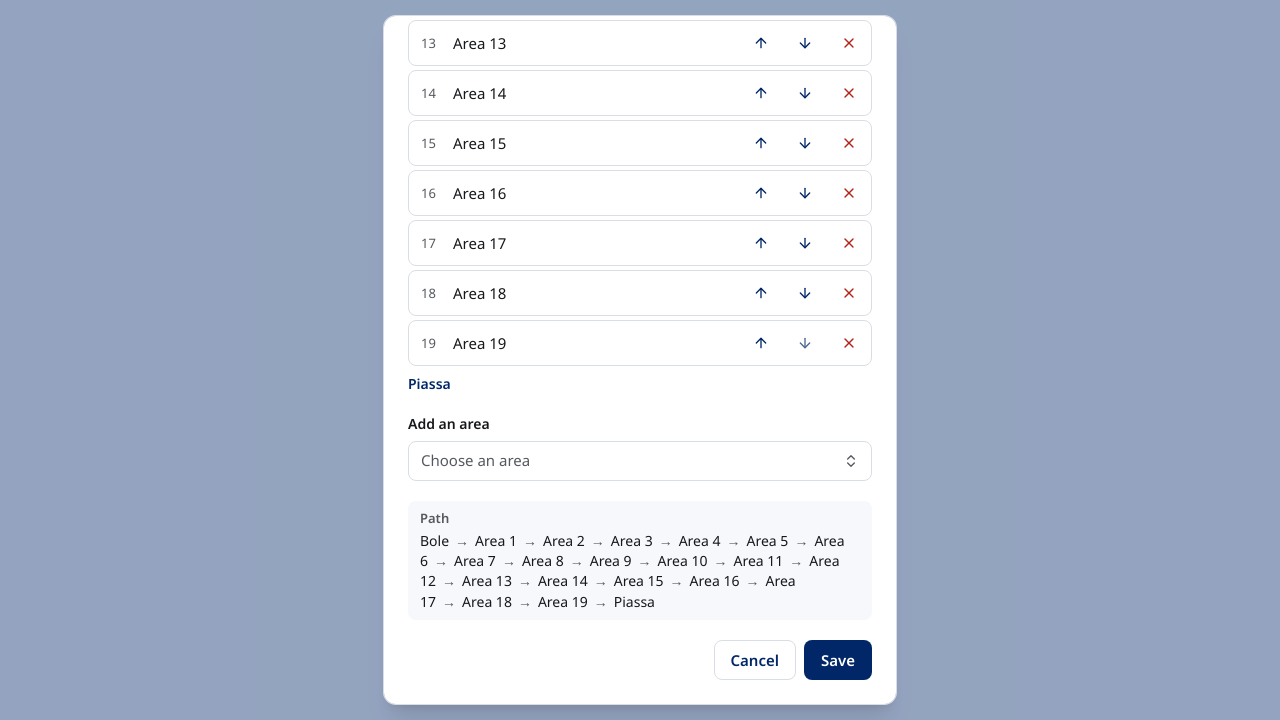
Scenario: RouteAreasDialog › keeps focus on the picker when the 20th area is added, and says the list is full
(page scrolled)
Click the dropdown named "Add an area" at (476, 460), box [408,441,872,481]
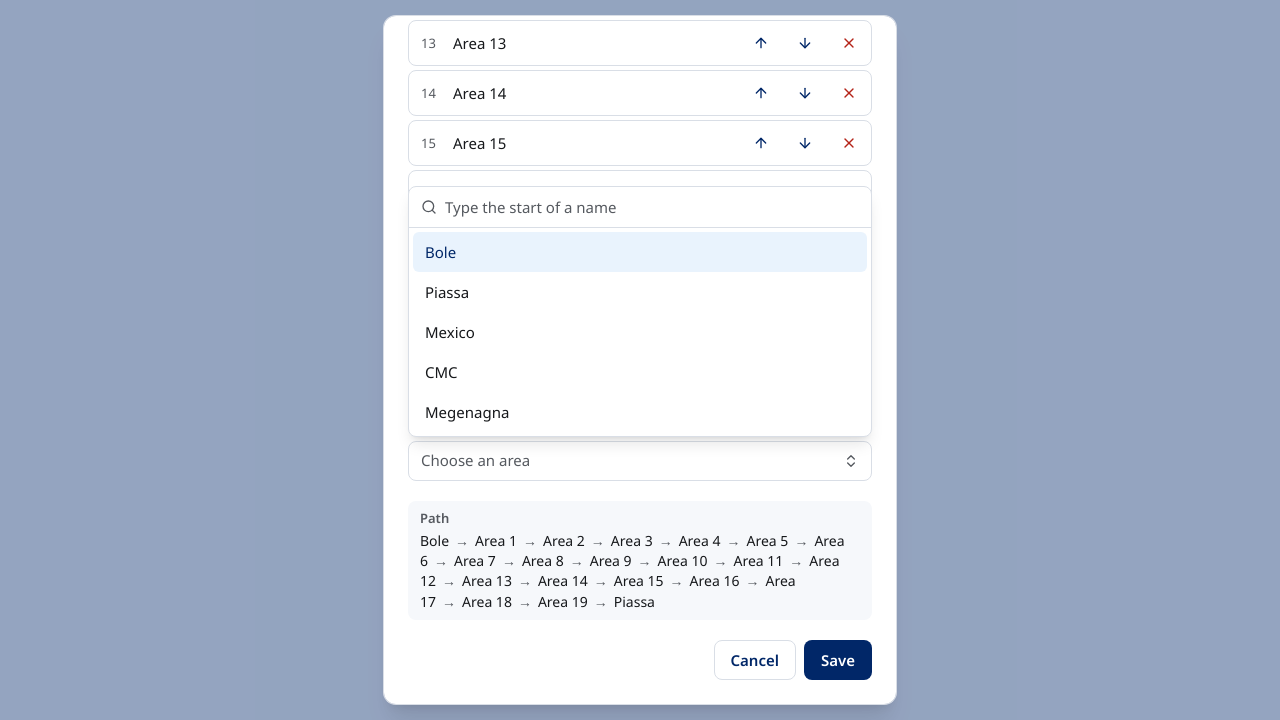
Type "Meg" into the dropdown named "Search areas" at (652, 207), box [445,187,859,227]
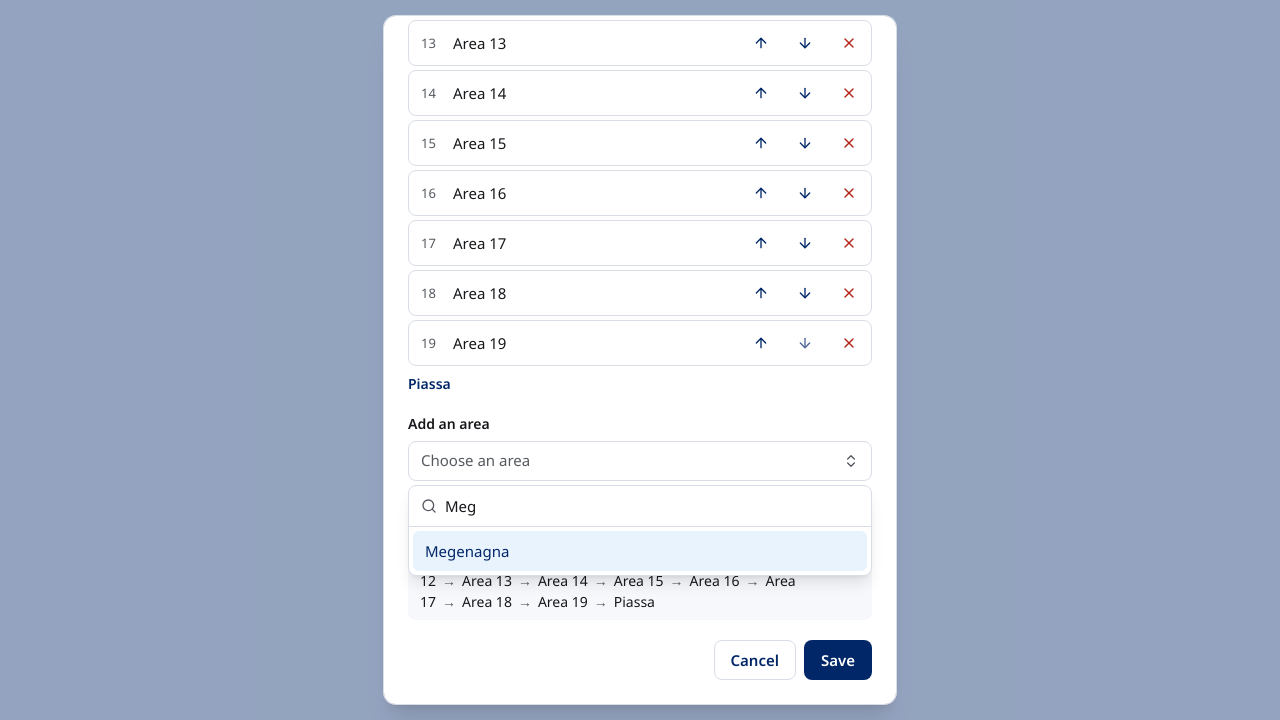
Click the option "Megenagna" at (467, 551), box [413,531,867,571]
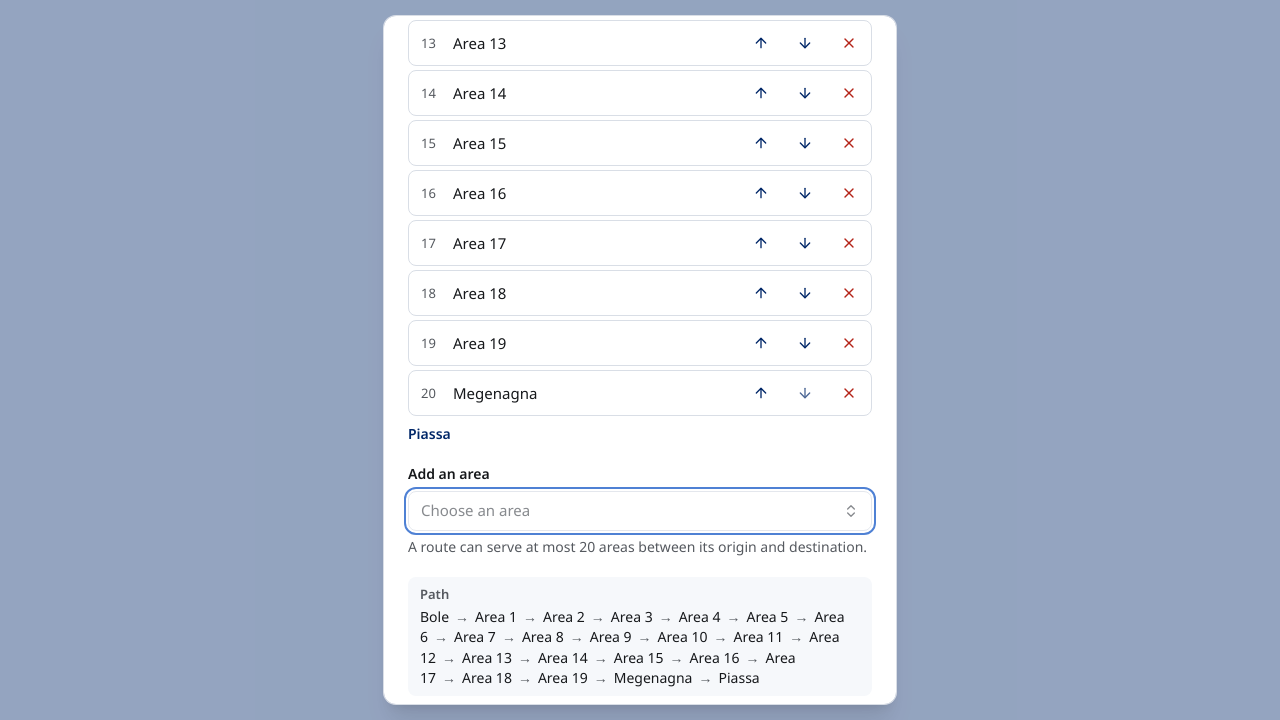
Check: the dropdown named "Add an area" is disabled, box [408,491,872,531]
